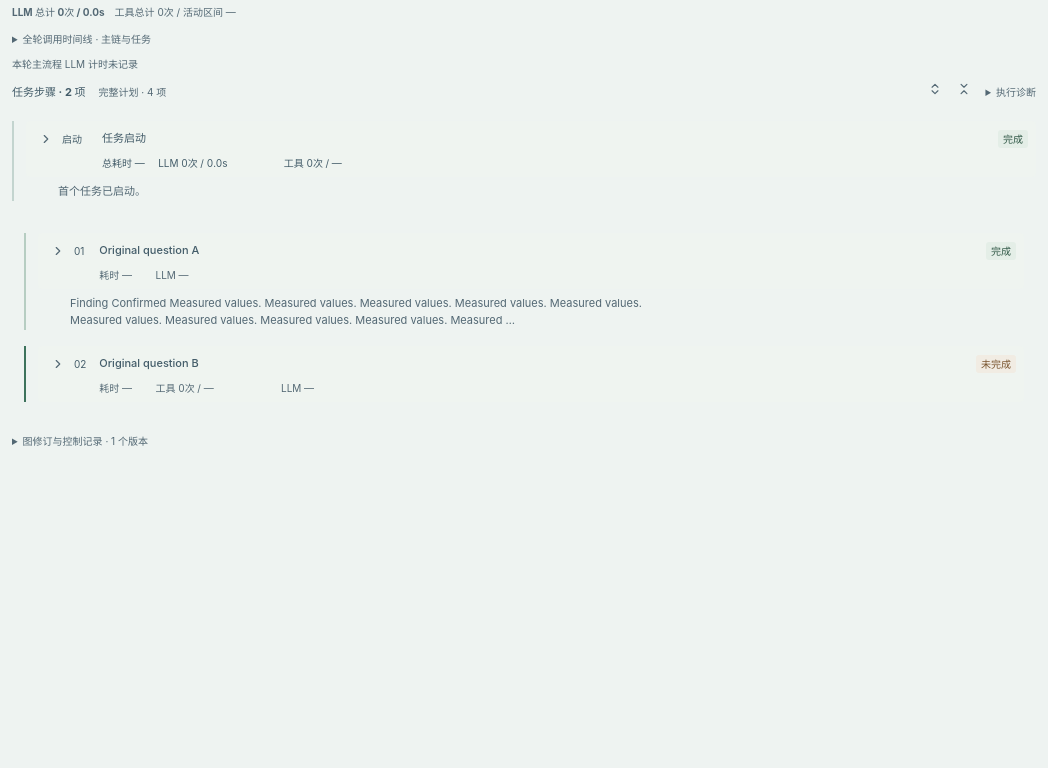
Scenario: actual graph process reader › does not show blank timing counters for a step that never started
Click the button with aria-label "查看完整计划" at point(132, 92), box [93, 81, 171, 103]
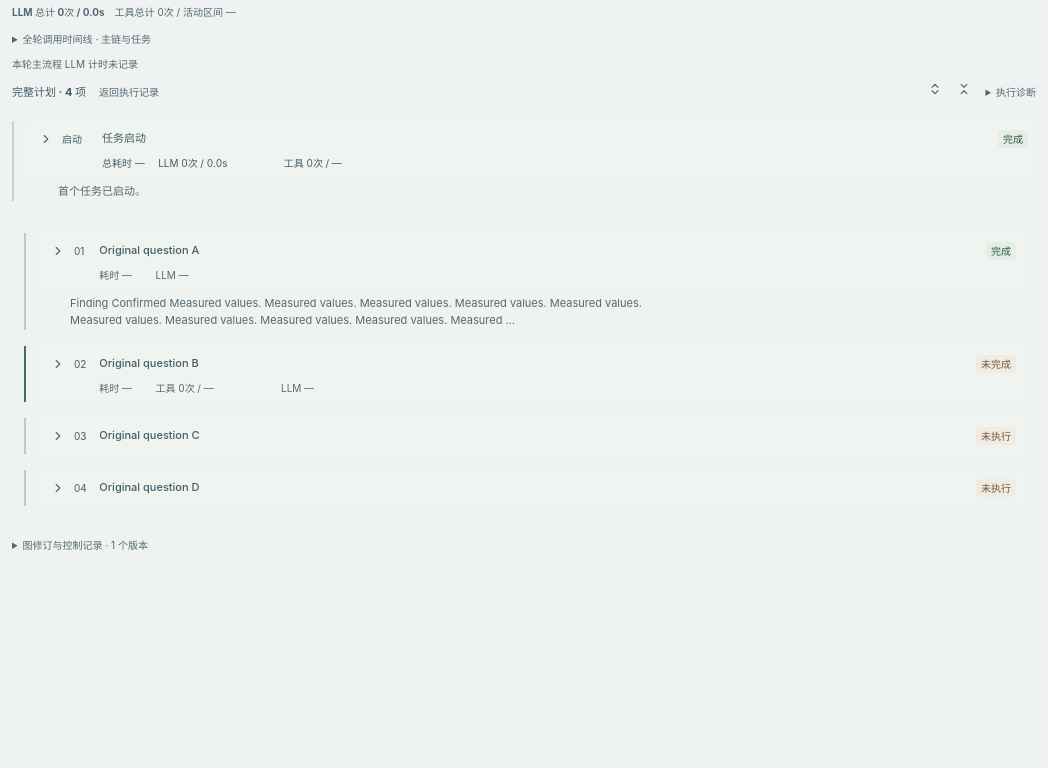
Check: the text "未执行" in the row of "Original question C" is shown, box [981, 430, 1011, 442]
